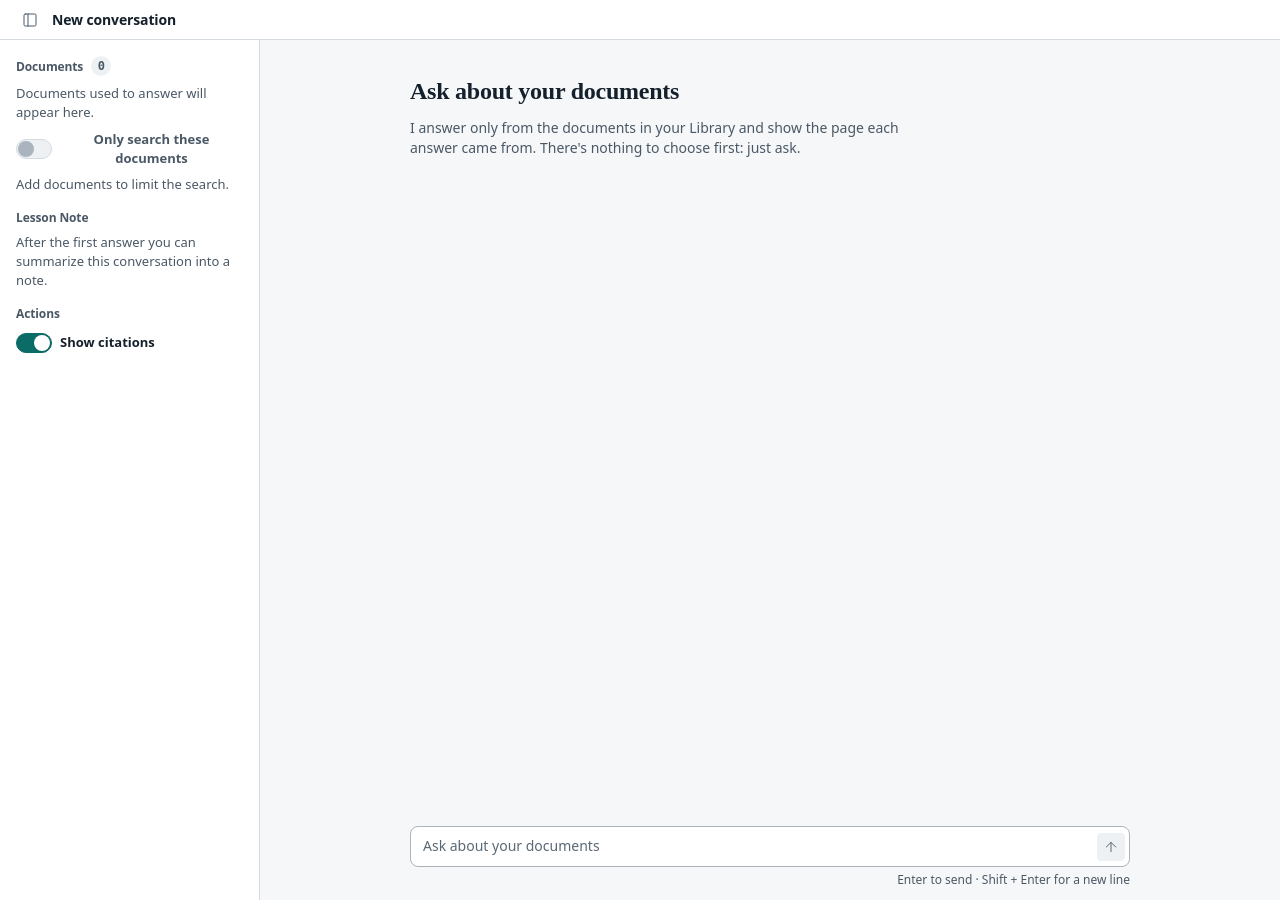
Scenario: ChatPage › sends the question and renders the streamed answer with citations
Type "What is attention?" into the text box named "question".
click(750, 846); type("What is attention?")  # box [411,827,1089,866]
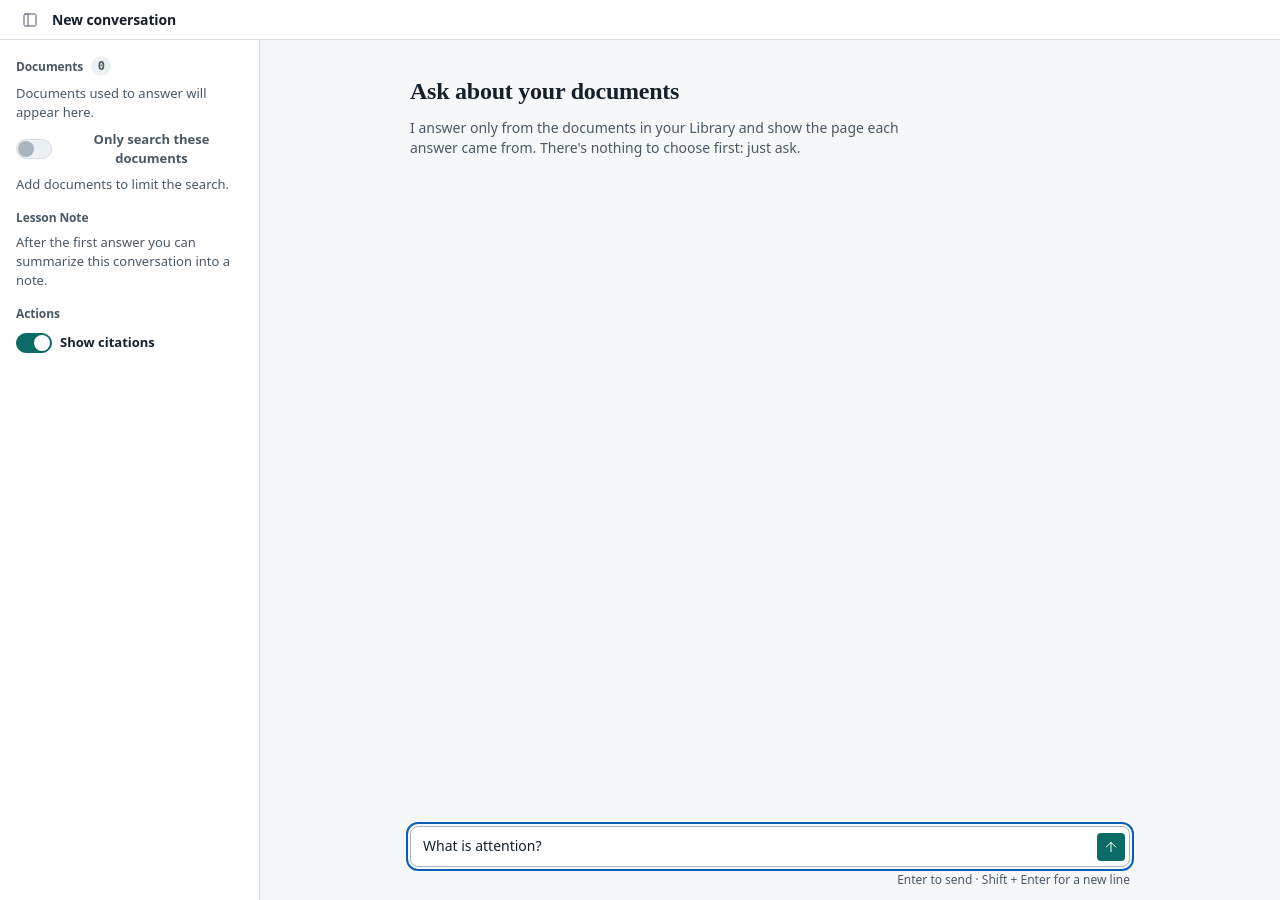
Click the button named "ask".
click(1111, 847)  # box [1097,833,1125,861]
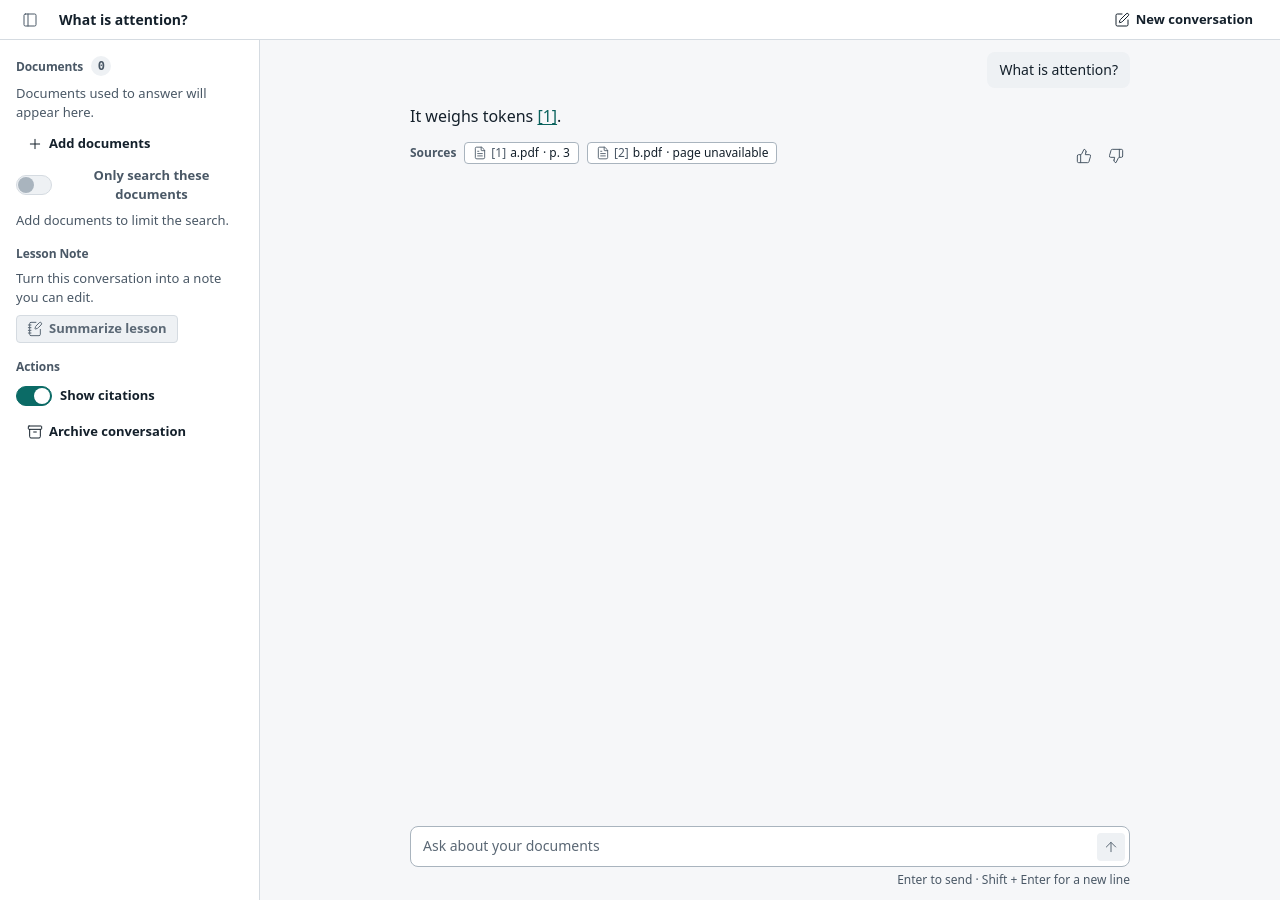
Check: the text "Sources" is shown, box [410,142,456,164]
Check: the button titled "a.pdf, p. 3" is shown, box [464,142,579,164]
Check: the button titled "b.pdf, page unavailable" is shown, box [587,142,778,164]
